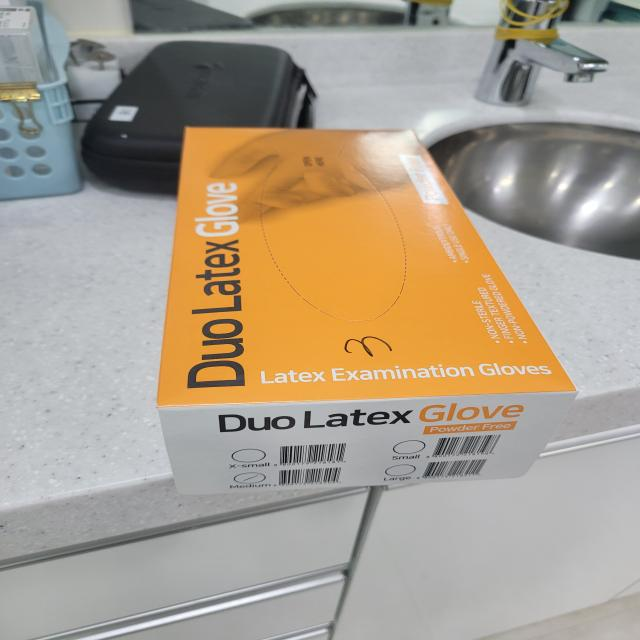glove: (126, 94, 604, 532)
